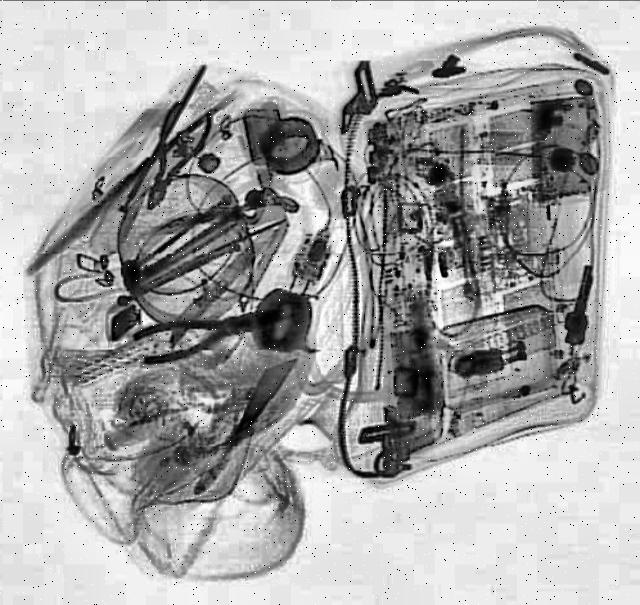Pliers: (134, 300, 280, 372), (132, 100, 220, 218)
